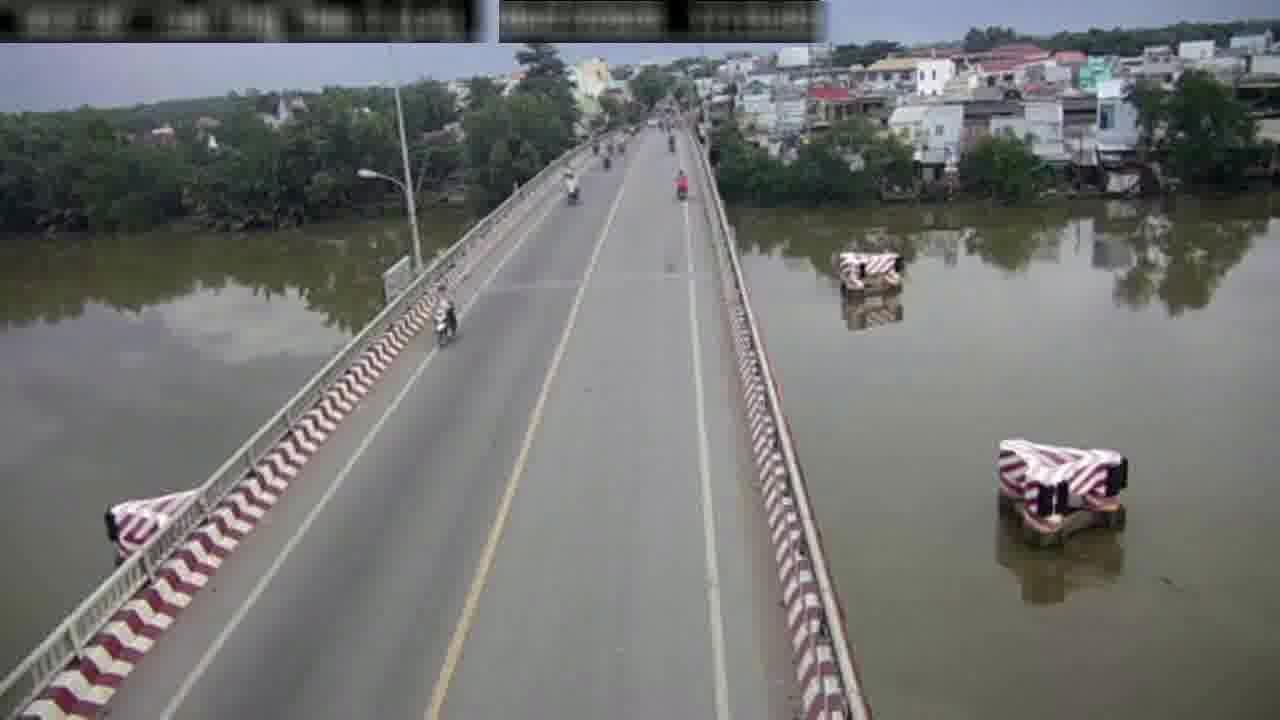motorbike: (429, 276, 462, 350), (674, 167, 690, 204)
